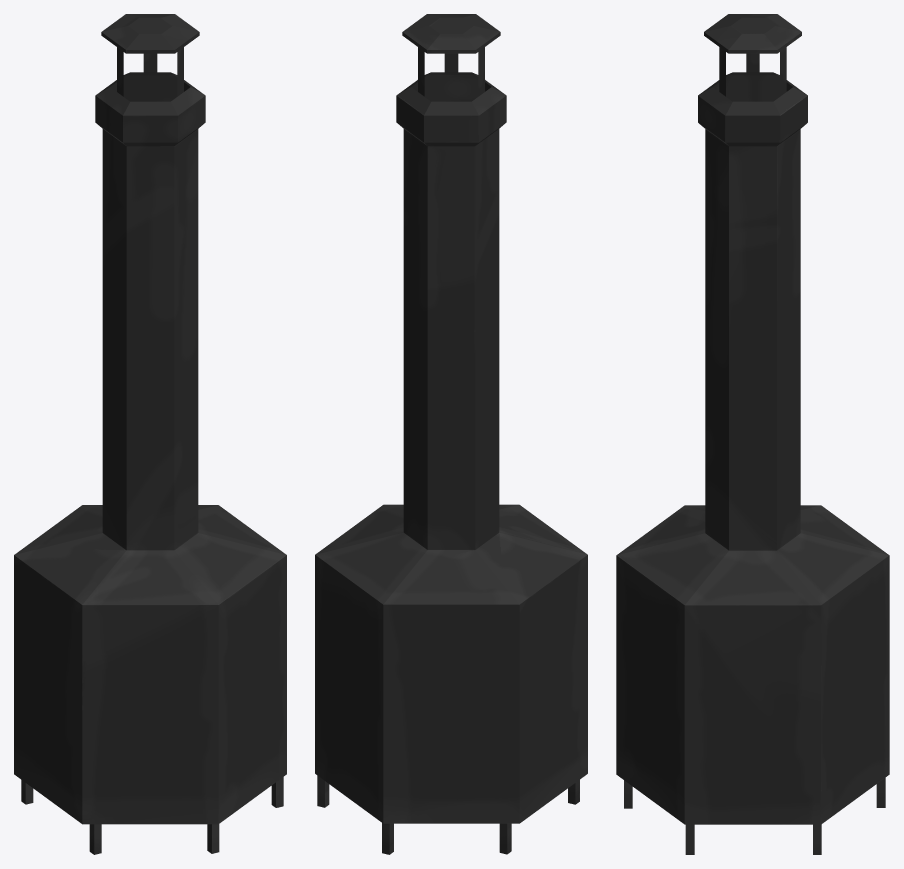
File: stove.fbx
3 renders of one model, left to right at view 1: azimuth 30°, elevation 25°; view 2: azimuth 150°, elevation 25°; view 3: azimuth 270°, elevation 25°, orthographic.
Parts seen in each view (by area): view 1: Fireplace; view 2: Fireplace; view 3: Fireplace.
Boxes of the visible parts, x1,y1,x2,y2 form: Fireplace: (14, 14, 286, 854); Fireplace: (315, 14, 587, 854); Fireplace: (616, 14, 889, 854).
Bounding box in the file's own units: 31.05 × 113 × 35.85.
1 material, 1 textured.
